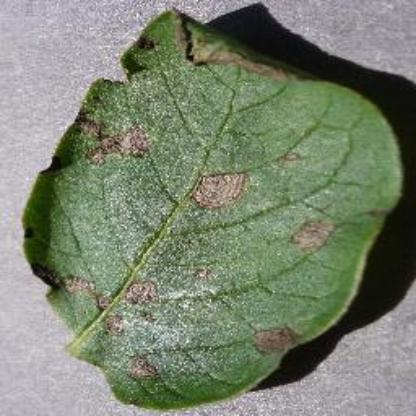Early-Blight: (21, 0, 416, 414)
